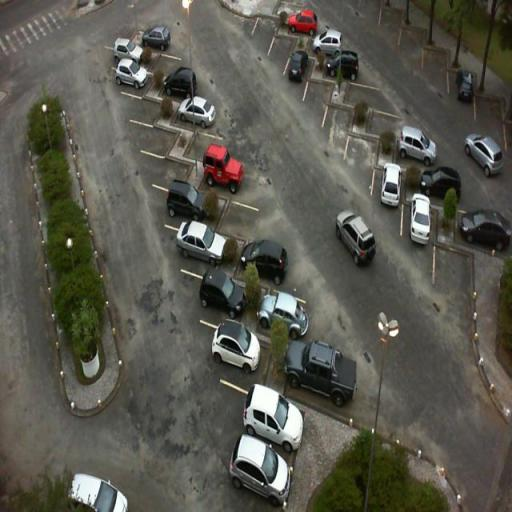Slot-empty: (431, 235, 479, 303), (122, 110, 176, 164), (216, 194, 272, 244), (318, 95, 361, 159), (341, 127, 381, 195), (138, 143, 190, 193), (115, 86, 166, 134), (302, 75, 336, 125), (188, 125, 233, 161), (264, 29, 294, 73), (248, 10, 278, 50), (145, 52, 188, 78)
Slot-occupied: (214, 374, 310, 450), (196, 314, 276, 396), (178, 263, 251, 332), (164, 218, 229, 282), (254, 281, 318, 339), (399, 186, 441, 262), (153, 180, 206, 238), (371, 154, 407, 218), (286, 44, 314, 100)
